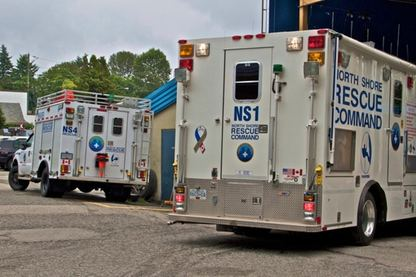ambulance: (161, 29, 416, 247), (8, 90, 154, 202)
car: (0, 136, 29, 171)
